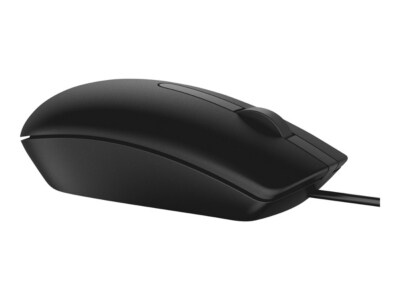dell-mouse-ms116: (13, 76, 383, 227)
